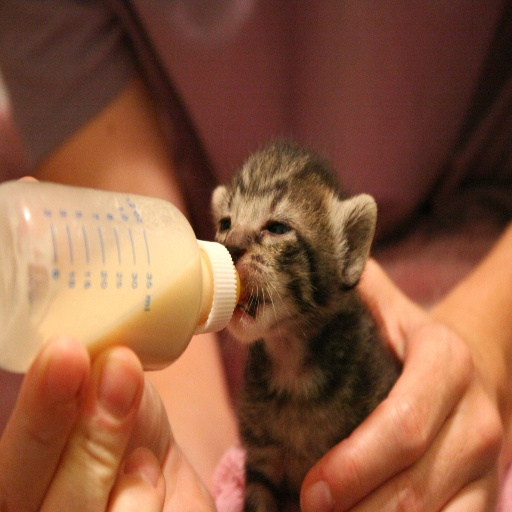hand: (0, 173, 219, 511), (326, 272, 505, 512)
